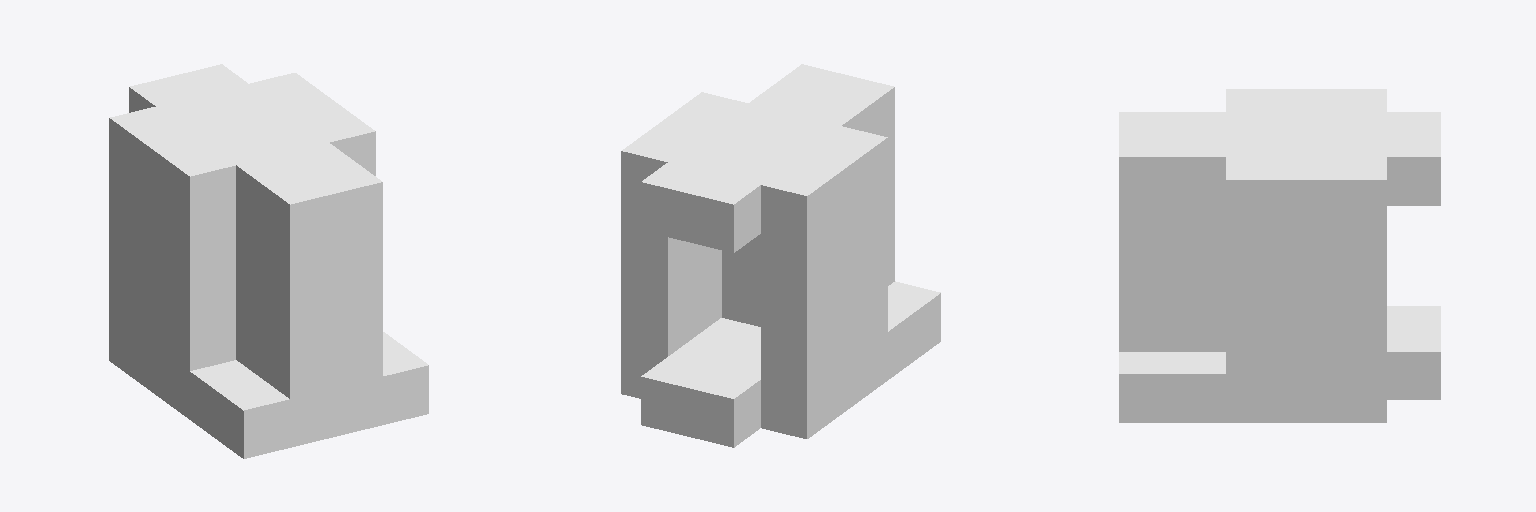
The model's file is apt-coffee-maker.obj.
The picture shows the model from 3 angles: view 1: azimuth 30°, elevation 25°; view 2: azimuth 150°, elevation 25°; view 3: azimuth 270°, elevation 25°; orthographic projection.
Visible parts, largest first — view 1: apt:coffee-maker; view 2: apt:coffee-maker; view 3: apt:coffee-maker.
Part boxes in pixels (left/top/right/bottom): apt:coffee-maker: left=109, top=64, right=428, bottom=458; apt:coffee-maker: left=621, top=64, right=940, bottom=447; apt:coffee-maker: left=1119, top=89, right=1440, bottom=422.
Bounding box in the file's own units: 4 × 5 × 6.